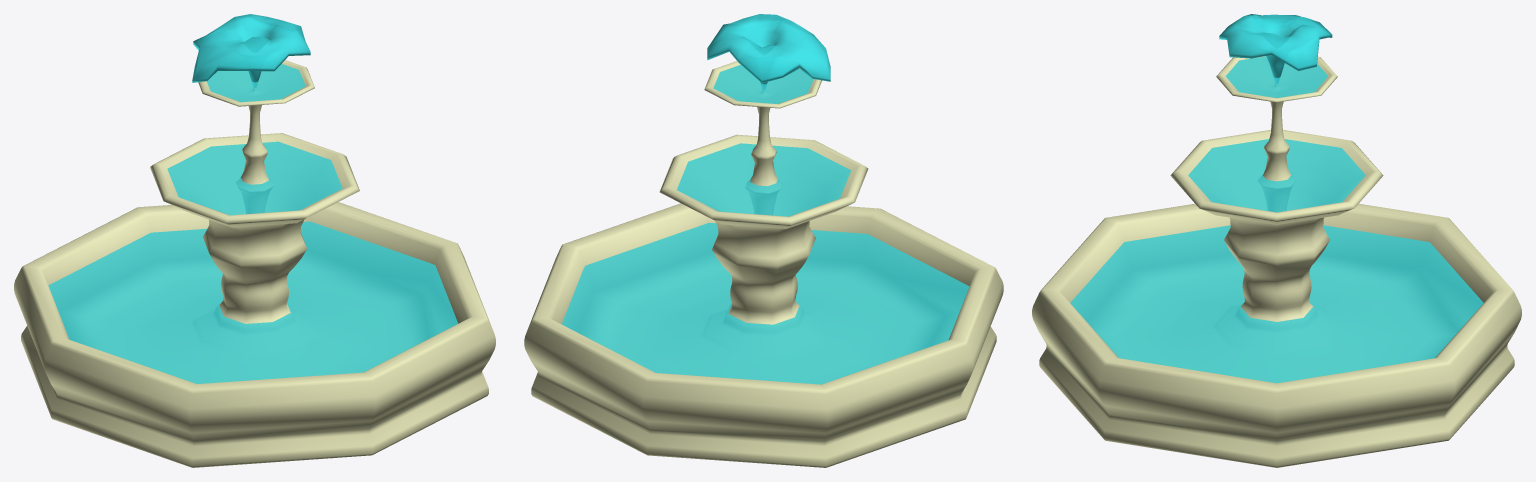
The model's file is fountain.glb.
The picture shows the model from 3 angles, left to right: view 1: azimuth 30°, elevation 25°; view 2: azimuth 150°, elevation 25°; view 3: azimuth 270°, elevation 25°; orthographic projection.
Visible parts, largest first — view 1: Cube, Cylinder; view 2: Cube, Cylinder; view 3: Cube, Cylinder.
Part boxes in pixels (x1,y1,x2,y2): Cube: [14, 60, 495, 467]; Cylinder: [48, 14, 458, 383]; Cube: [524, 61, 1003, 467]; Cylinder: [561, 14, 969, 384]; Cube: [1032, 56, 1521, 467]; Cylinder: [1070, 14, 1483, 383].
Bounding box in the file's own units: 4.32 × 3.38 × 4.32.
